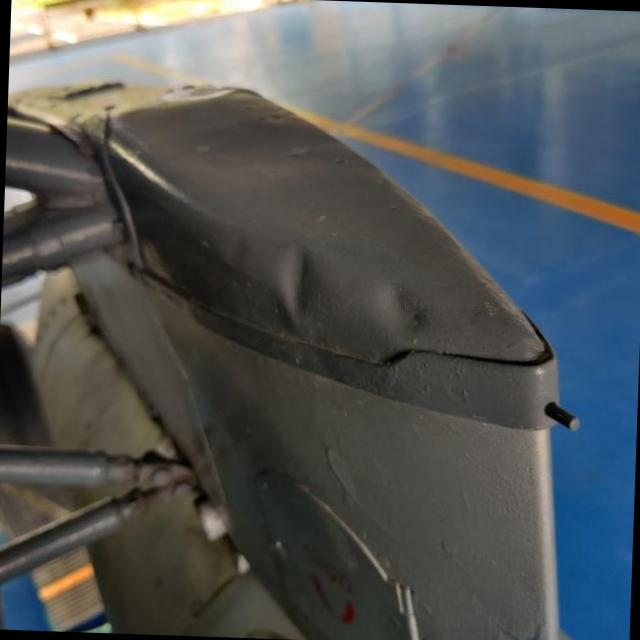Dent: (369, 262, 453, 360), (280, 241, 322, 325)
